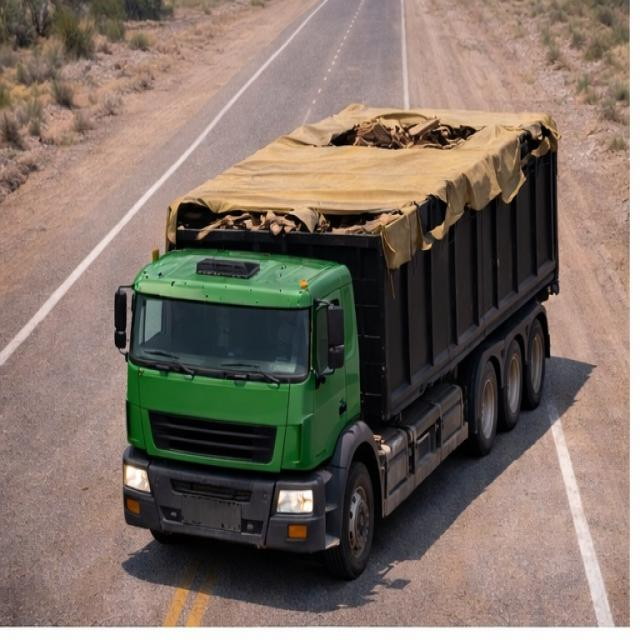Box: (165, 107, 559, 240)
Truck: (108, 81, 575, 564)
